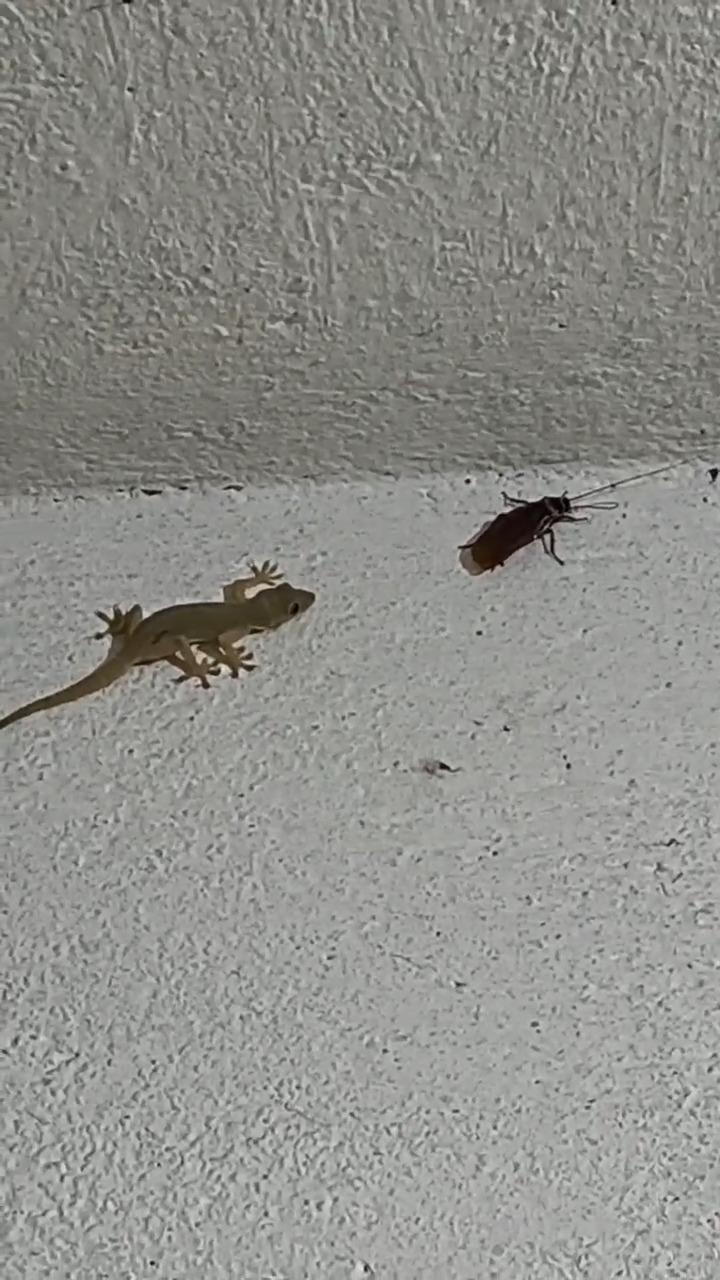cockroach: (458, 478, 625, 580)
lizard: (0, 546, 321, 736)
